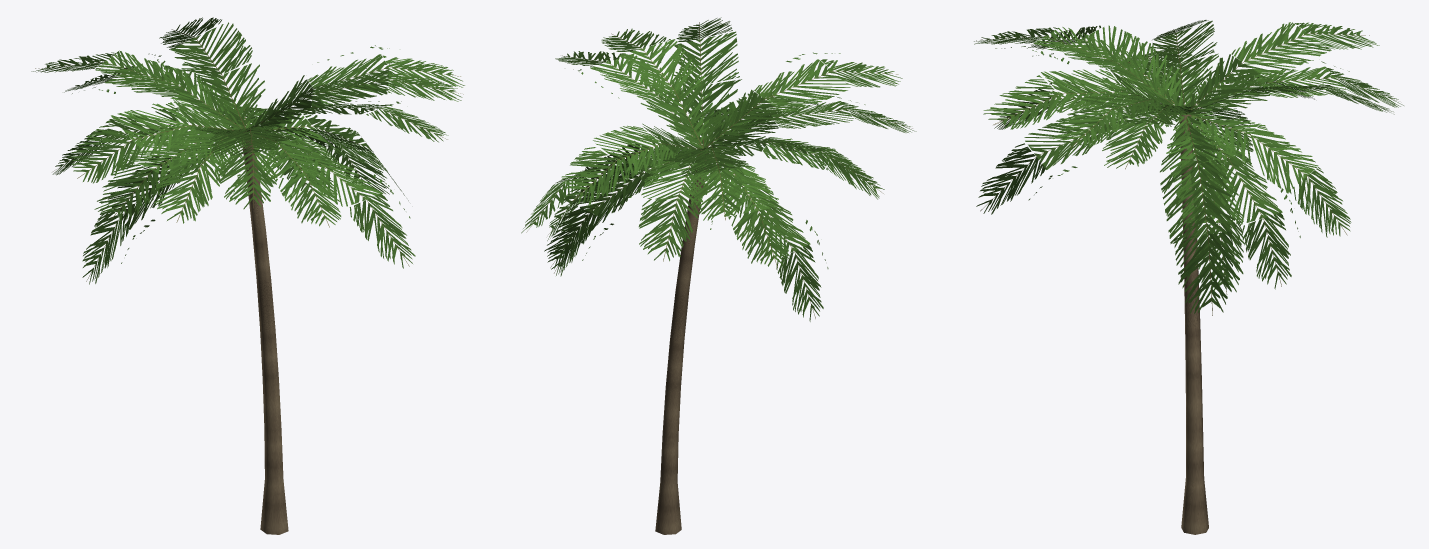
File: near.glb
3 renders of one model, left to right at view 1: azimuth 30°, elevation 25°; view 2: azimuth 150°, elevation 25°; view 3: azimuth 270°, elevation 25°, orthographic. The views are drawn at different scales.
Parts seen in each view (by area): view 1: palm_01; view 2: palm_01; view 3: palm_01.
Boxes of the visible parts, x1=… form: palm_01: x1=31, y1=17, x2=464, y2=534; palm_01: x1=521, y1=17, x2=916, y2=534; palm_01: x1=974, y1=20, x2=1403, y2=534.
Bounding box in the file's own units: 10.78 × 12.79 × 11.62.
Materials: 2 (2 with a texture image).
